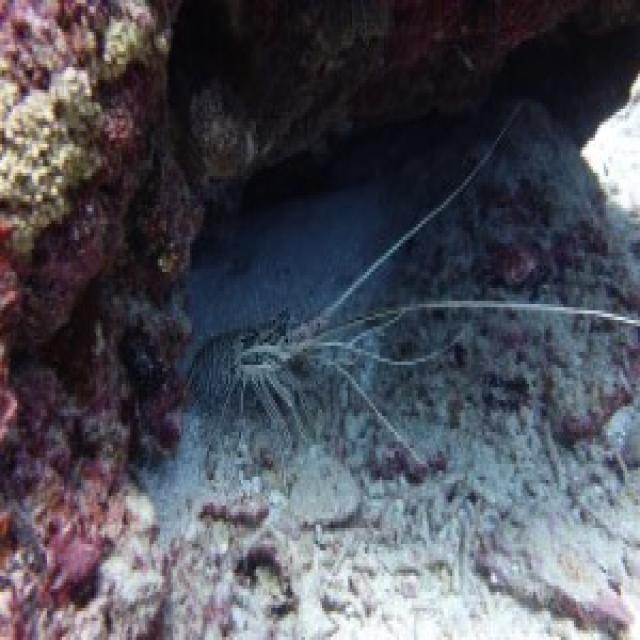lobsters: (143, 151, 544, 541)
